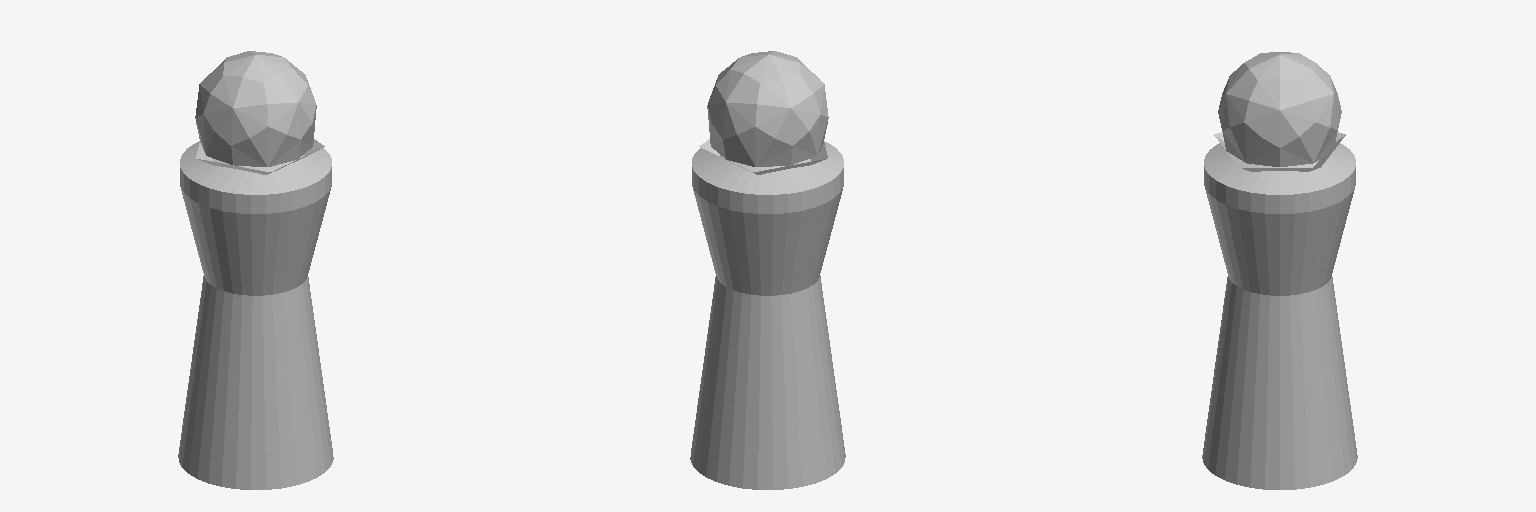
The model's file is tower.obj.
The picture shows the model from 3 angles: view 1: azimuth 30°, elevation 25°; view 2: azimuth 150°, elevation 25°; view 3: azimuth 270°, elevation 25°; orthographic projection.
Visible parts, largest first — view 1: Cylinder, Cylinder.001; view 2: Cylinder, Cylinder.001; view 3: Cylinder, Cylinder.001.
Part boxes in pixels (x1,y1,x2,y2): Cylinder: (178, 139, 333, 489); Cylinder.001: (195, 51, 316, 166); Cylinder: (690, 139, 845, 489); Cylinder.001: (707, 51, 828, 166); Cylinder: (1202, 132, 1357, 489); Cylinder.001: (1218, 52, 1341, 166).
Size of the model in its own units: 2 by 5.71 by 2.